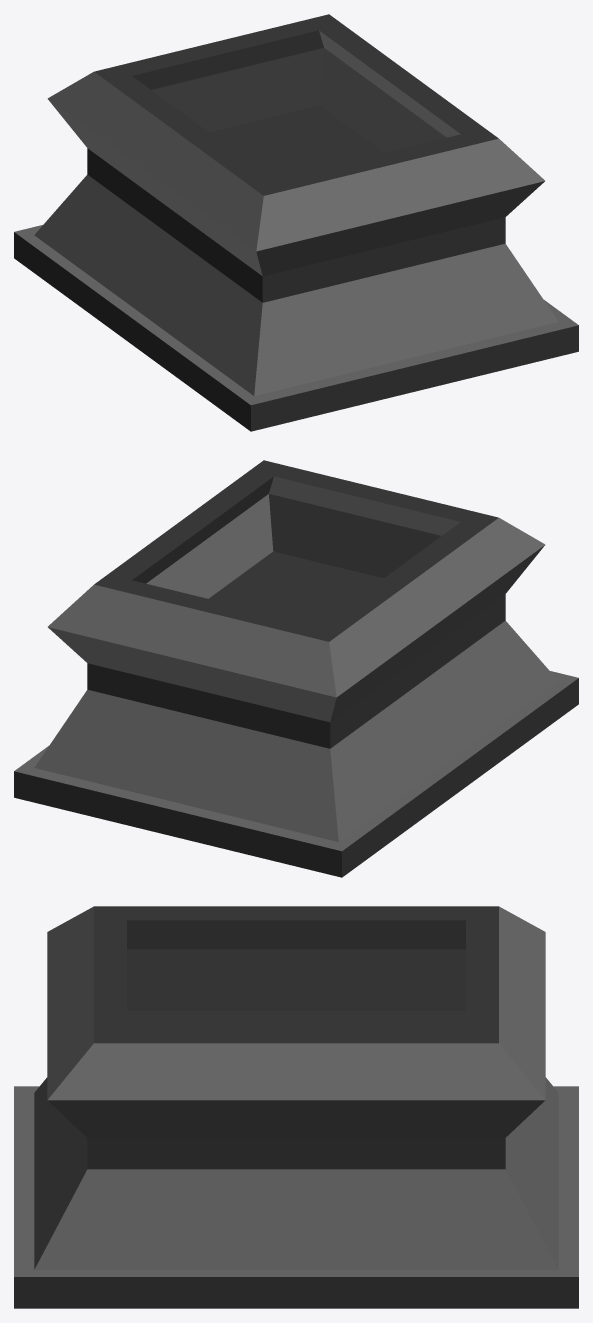
The model's file is SidePillarTop.fbx.
The picture shows the model from 3 angles, top to bottom: view 1: azimuth 30°, elevation 25°; view 2: azimuth 150°, elevation 25°; view 3: azimuth 270°, elevation 25°; orthographic projection. The views are drawn at different scales.
Parts seen in each view (by area): view 1: Cylinder.001; view 2: Cylinder.001; view 3: Cylinder.001.
Part boxes in pixels (x1,y1,x2,y2): Cylinder.001: (14,14,578,431); Cylinder.001: (14,460,578,877); Cylinder.001: (14,906,578,1308).
Bounding box in the file's own units: 23.47 × 13.67 × 29.36.
